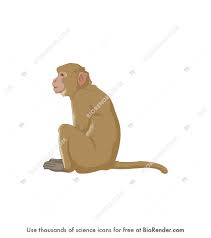monkey: (21, 37, 166, 216)
